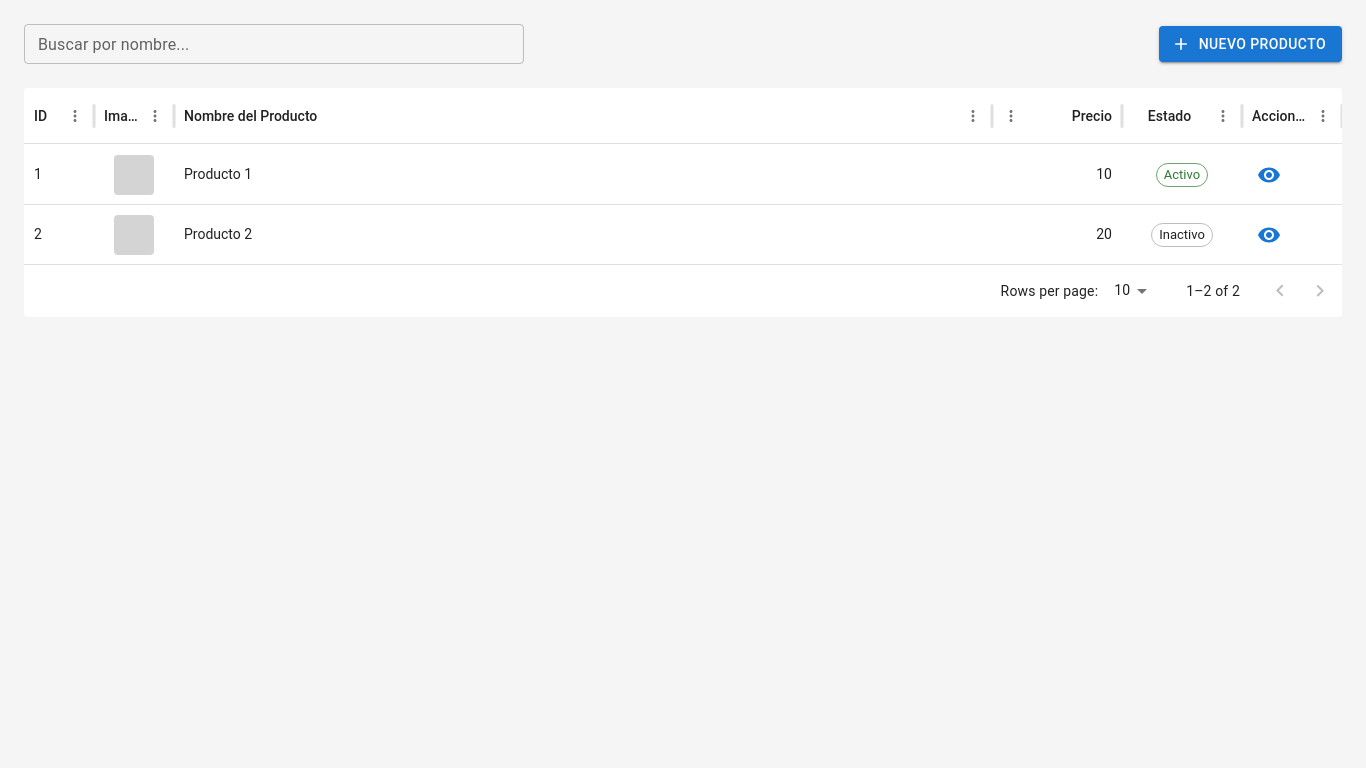
Scenario: ObjectList Component › debería manejar error al cargar detalle
Click the button with test id "VisibilityIcon" at (1269, 174), box [1252,158,1286,192]
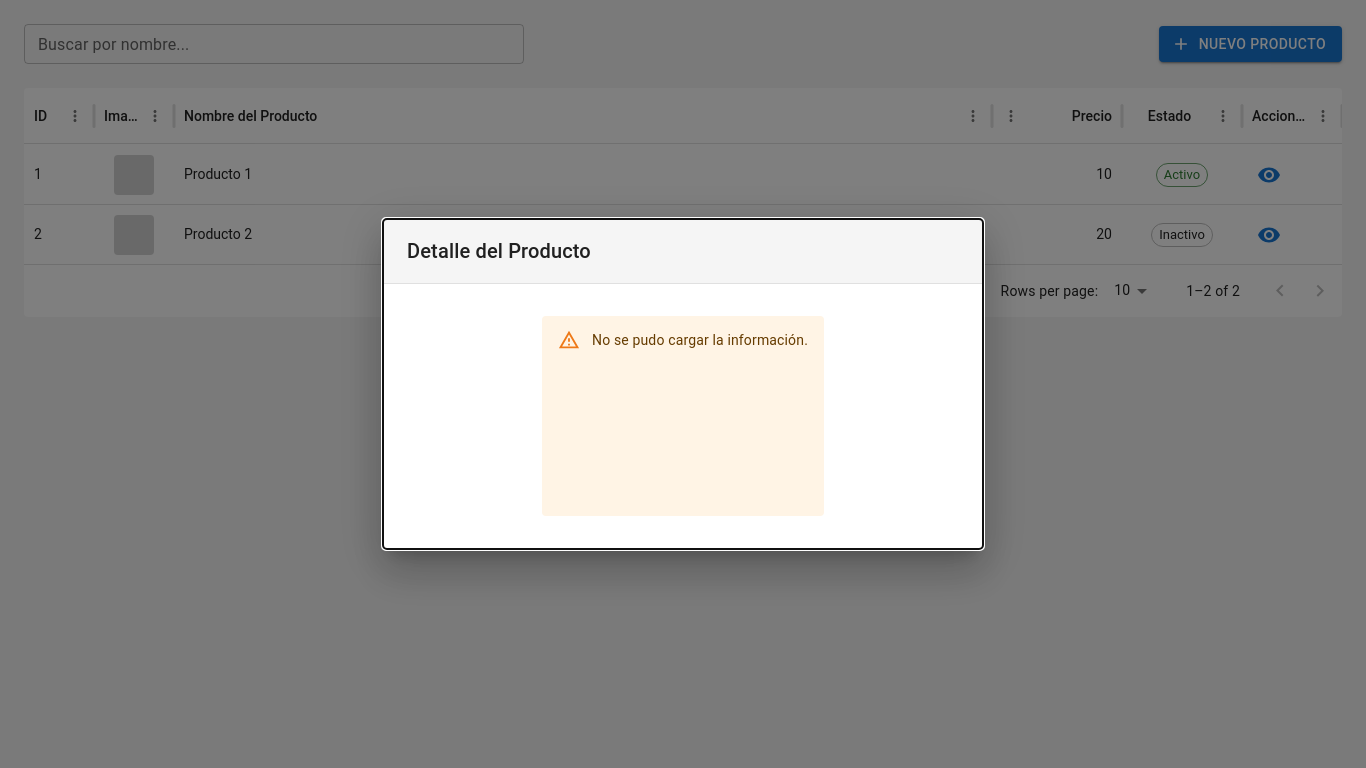
Check: the text "No se pudo cargar la información." is shown, box [592,332,808,348]
